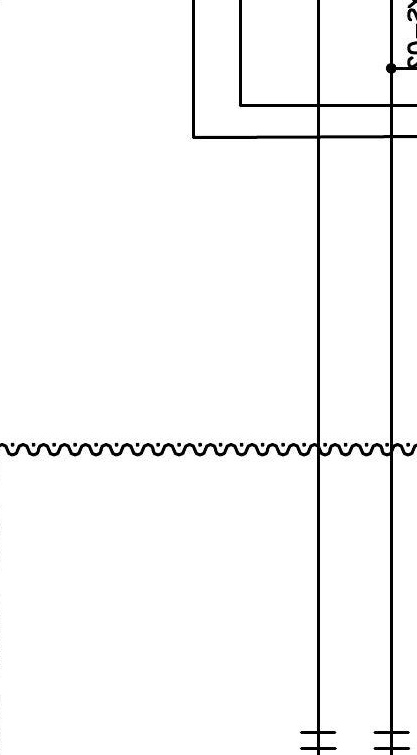115_buffer: (300, 731, 337, 750), (373, 731, 410, 750)
